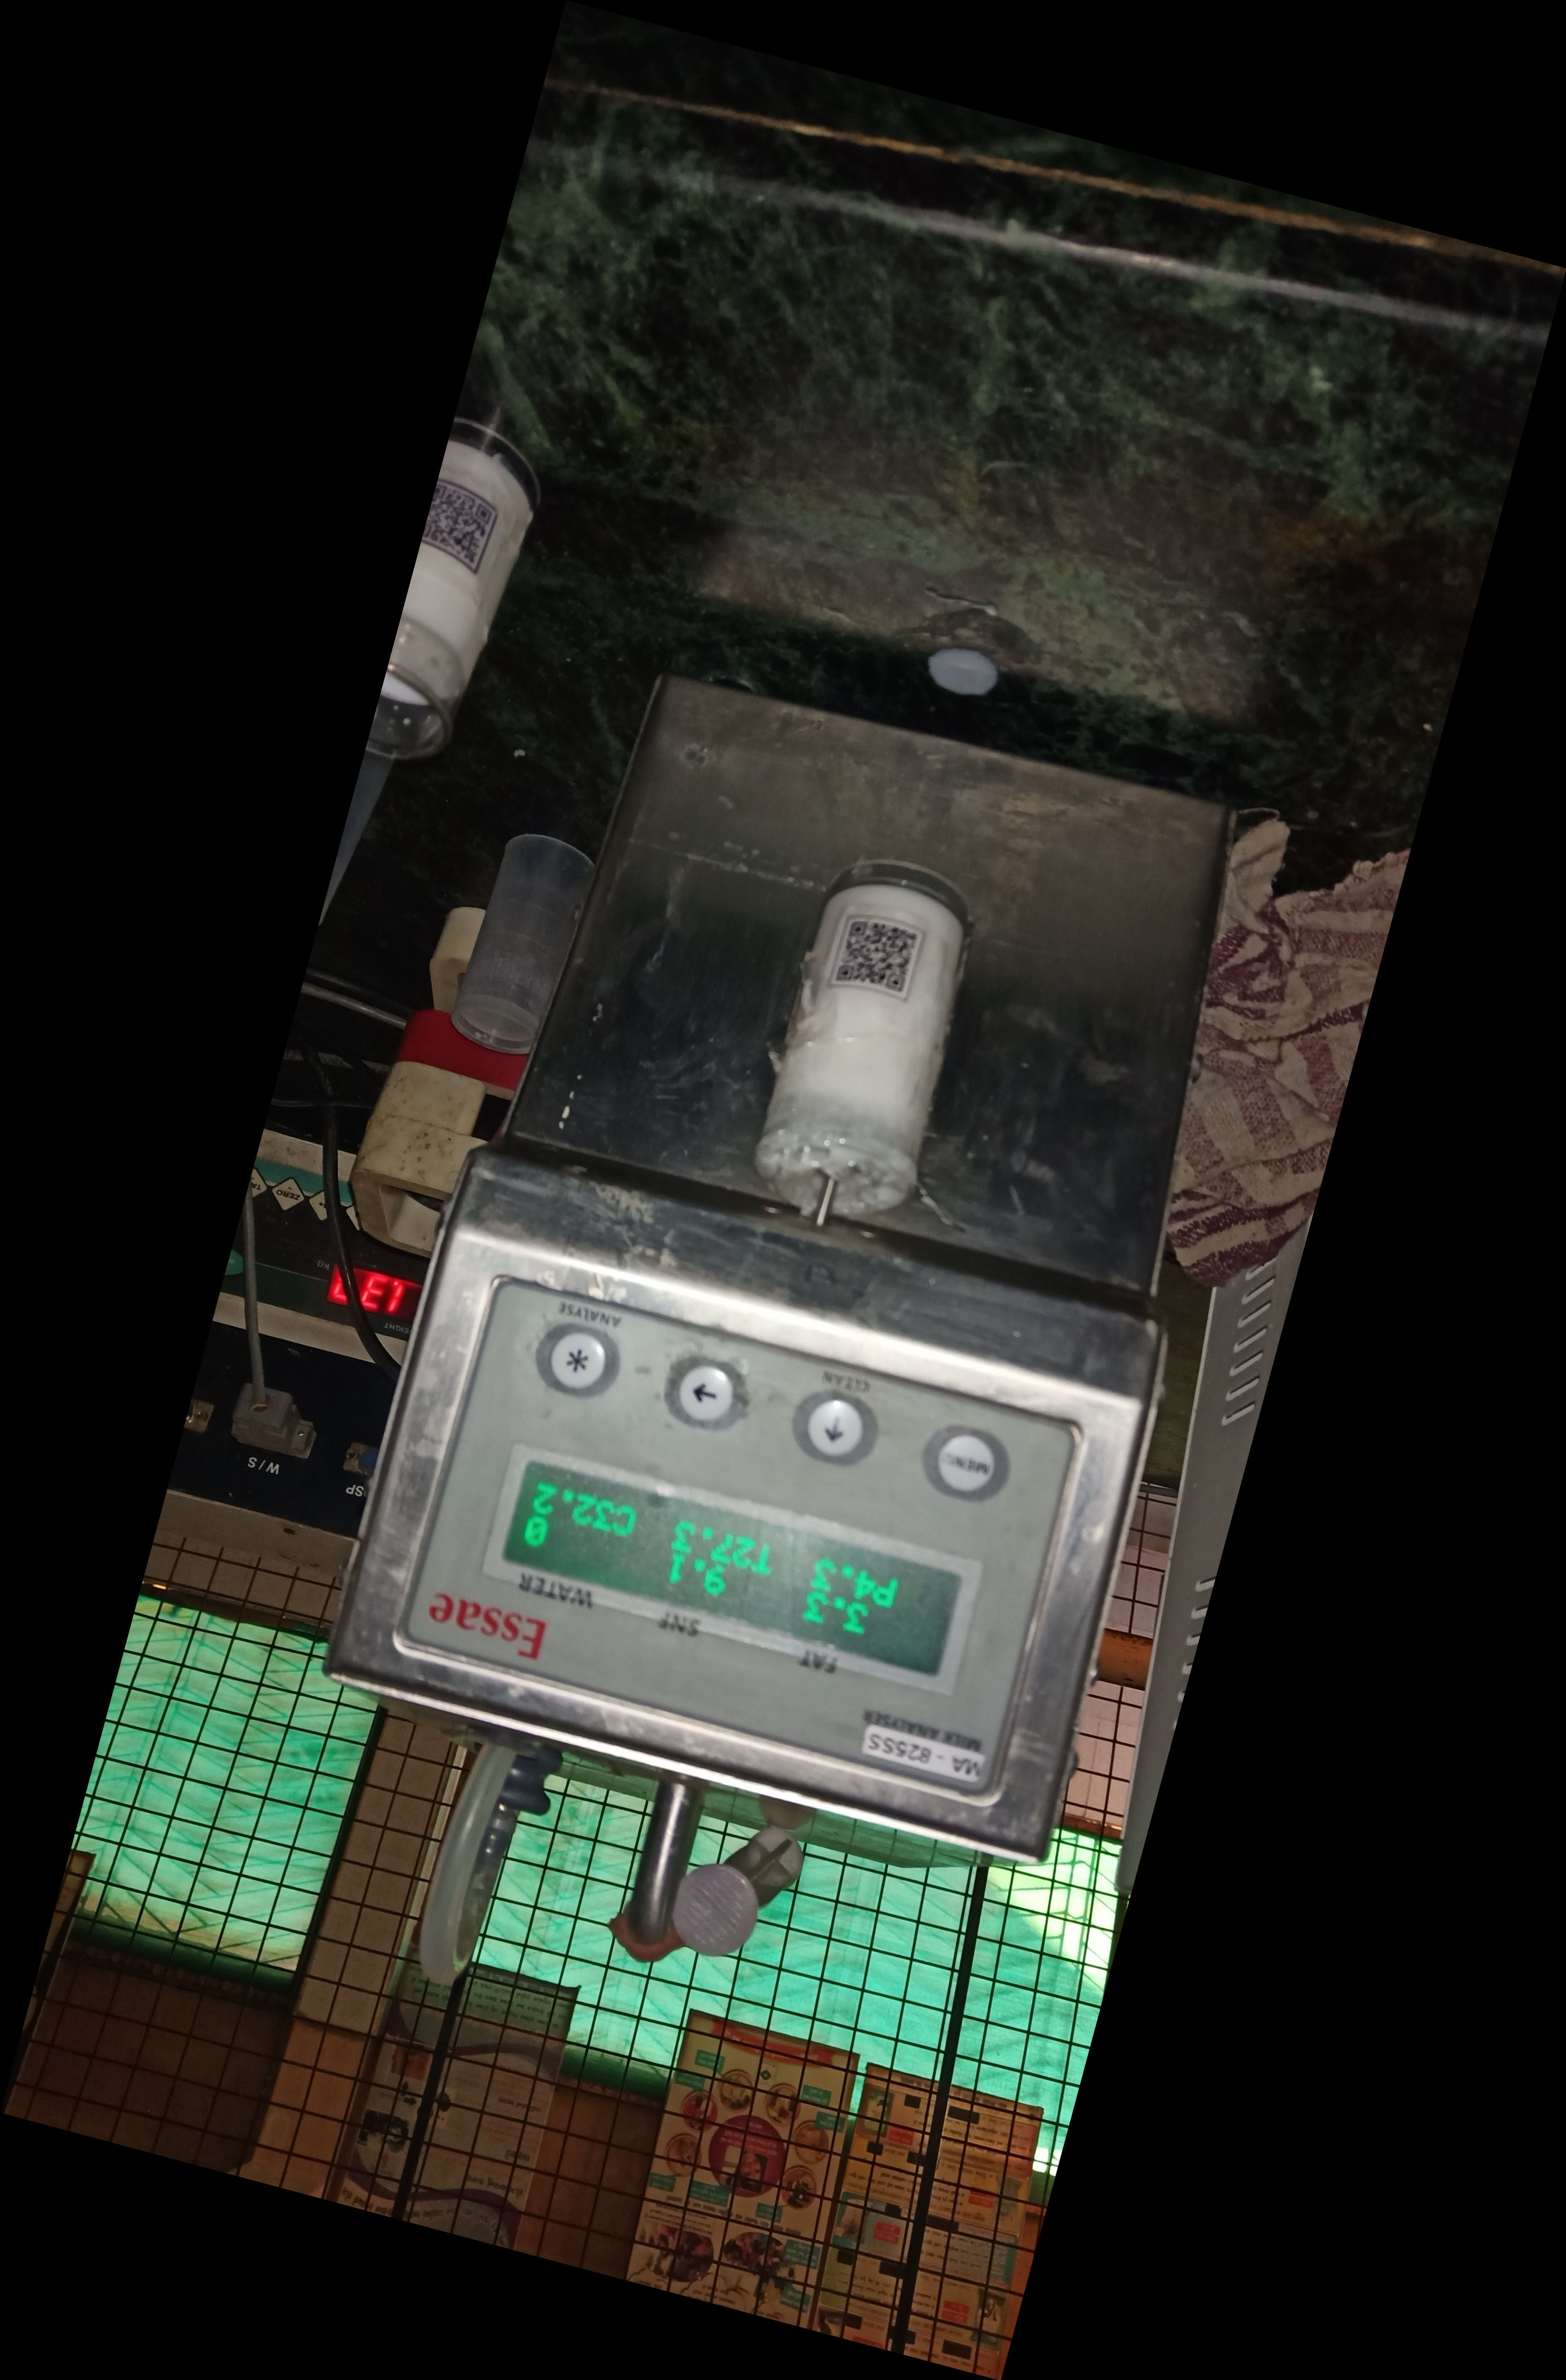lcd: (463, 1426, 980, 1725)
qr: (423, 460, 519, 585), (828, 898, 921, 1005)
